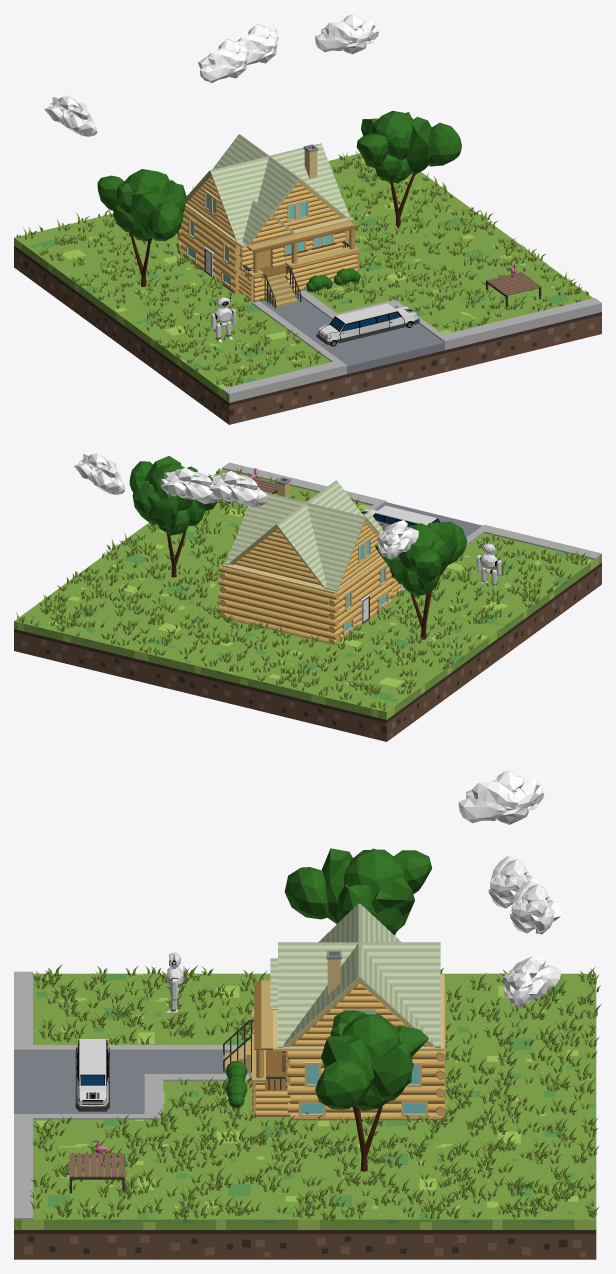
The picture shows the model from 3 angles, top to bottom: view 1: azimuth 30°, elevation 25°; view 2: azimuth 150°, elevation 25°; view 3: azimuth 270°, elevation 25°; orthographic projection. The views are drawn at different scales.
Visible parts, largest first — view 1: Cube.006, Cube.1516, Circle.012_Grass_0.192, Cube.007, tree, tree.001, VEHICLES_LIMOUSINE, Cube.009, OBJRANDOM_PLATZEEBOT; view 2: Cube.006, Cube.1516, Circle.012_Grass_0.192, Cube.007, tree.001, tree, VEHICLES_LIMOUSINE, OBJRANDOM_PLATZEEBOT; view 3: Cube.006, Circle.012_Grass_0.192, Cube.1516, tree, Cube.007, tree.001, VEHICLES_LIMOUSINE, Cube.009, OBJRANDOM_PLATZEEBOT.
Boxes of the visible parts, x1,y1,x2,y2 form: Cube.006: (14, 153, 601, 424); Cube.1516: (176, 134, 359, 308); Circle.012_Grass_0.192: (16, 150, 588, 386); Cube.007: (44, 14, 378, 136); tree: (356, 110, 461, 228); tree.001: (97, 169, 186, 286); VEHICLES_LIMOUSINE: (316, 303, 419, 346); Cube.009: (486, 272, 541, 306); OBJRANDOM_PLATZEEBOT: (211, 292, 236, 342); Cube.006: (14, 462, 601, 741); Cube.1516: (218, 477, 401, 644); Circle.012_Grass_0.192: (16, 468, 588, 711); Cube.007: (74, 453, 418, 559); tree.001: (375, 521, 467, 639); tree: (129, 456, 216, 577); VEHICLES_LIMOUSINE: (361, 505, 439, 530); OBJRANDOM_PLATZEEBOT: (476, 539, 501, 587); Cube.006: (14, 971, 596, 1259); Circle.012_Grass_0.192: (29, 964, 601, 1220); Cube.1516: (223, 903, 445, 1120); tree: (315, 1010, 428, 1171); Cube.007: (458, 770, 561, 1007); tree.001: (284, 848, 432, 935); VEHICLES_LIMOUSINE: (75, 1039, 109, 1111); Cube.009: (69, 1153, 124, 1193); OBJRANDOM_PLATZEEBOT: (165, 952, 183, 1013).
Bounding box in the file's own units: 4071 × 2198 × 4040.
Materials: 39 (5 with a texture image).
